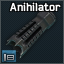AR-15 Yankee Hill Annihilator multi-caliber flash hider: (0, 0, 64, 64)
